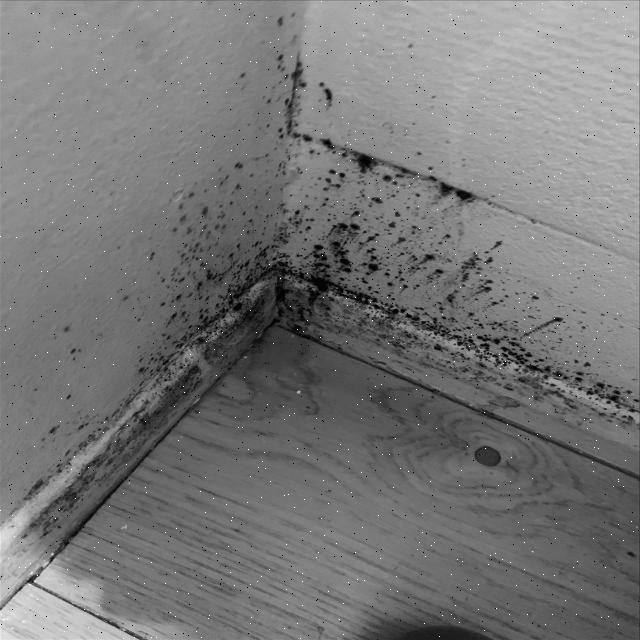stain marks: (0, 1, 303, 554), (304, 78, 640, 450)
